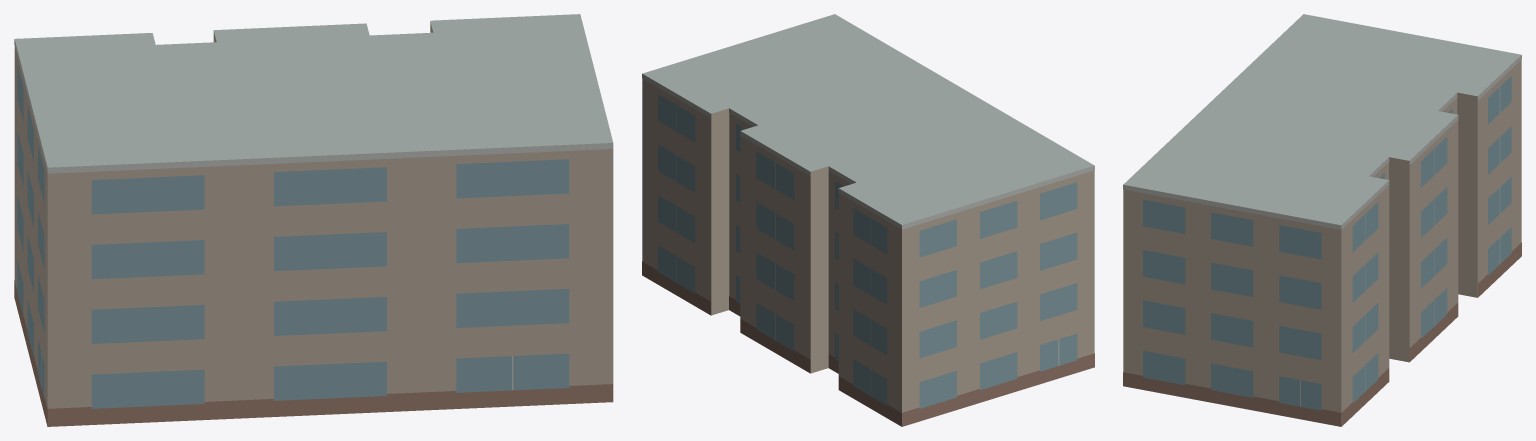
Rendered from survey-upis-32633836.glb.
3 views of the same model, side by side, from view 1: azimuth 30°, elevation 25°; view 2: azimuth 150°, elevation 25°; view 3: azimuth 270°, elevation 25° (orthographic). The views are drawn at different scales.
Parts seen in each view (by area): view 1: survey-upis-32633836.tmp; view 2: survey-upis-32633836.tmp; view 3: survey-upis-32633836.tmp.
Part boxes in pixels (x1,y1,x2,y2): survey-upis-32633836.tmp: (14,14,613,426); survey-upis-32633836.tmp: (642,14,1094,426); survey-upis-32633836.tmp: (1123,14,1521,426).
Size of the model in its own units: 23.62 by 10.5 by 18.83.
